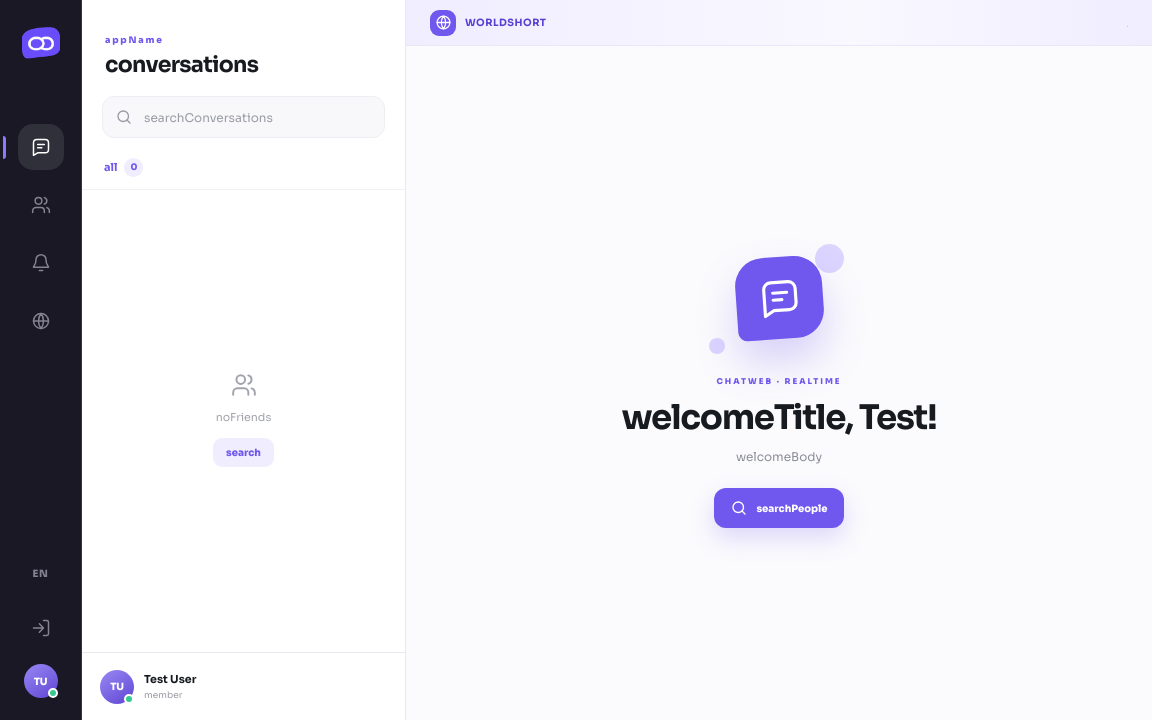
Test: ChatPage Notification Click Navigation Integration › filters out non-persisted notification types so only types saved by BE are shown
Click the button titled "notifications" at (40, 263), box x1=18 y1=240 x2=64 y2=286
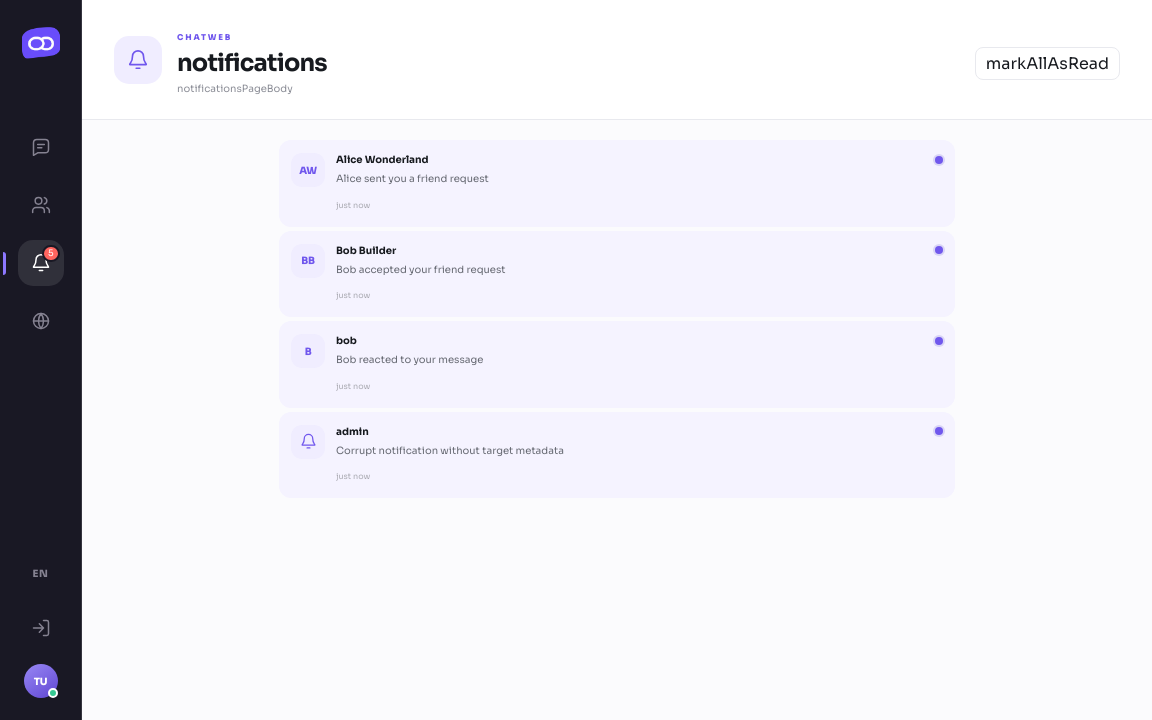
expect the element "notifications" is shown: met
expect the text "Alice sent you a friend request" is shown: met, box x1=336 y1=172 x2=489 y2=185
expect the text "Bob accepted your friend request" is shown: met, box x1=336 y1=262 x2=506 y2=276
